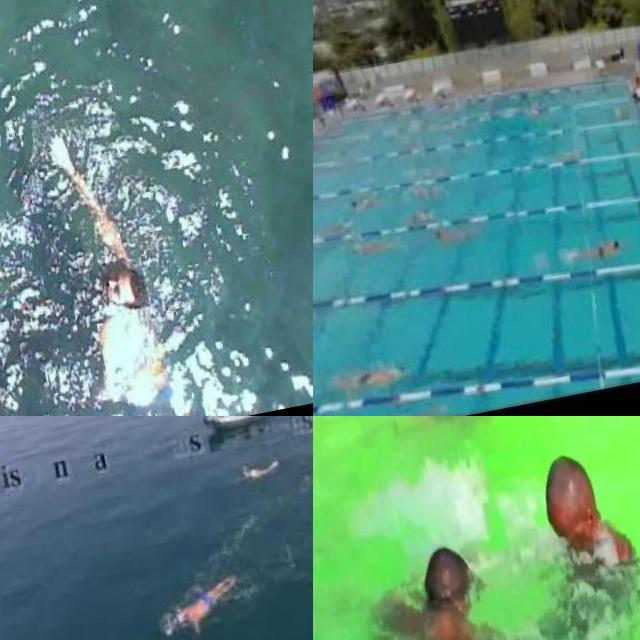drowning: (335, 503, 552, 640)
swimming: (32, 130, 176, 346), (515, 416, 640, 623), (153, 567, 249, 640), (338, 354, 405, 392), (570, 235, 626, 270), (345, 230, 392, 259), (438, 218, 482, 248), (409, 168, 439, 202), (549, 146, 586, 170), (319, 217, 356, 240), (348, 184, 374, 206), (406, 210, 434, 230)
